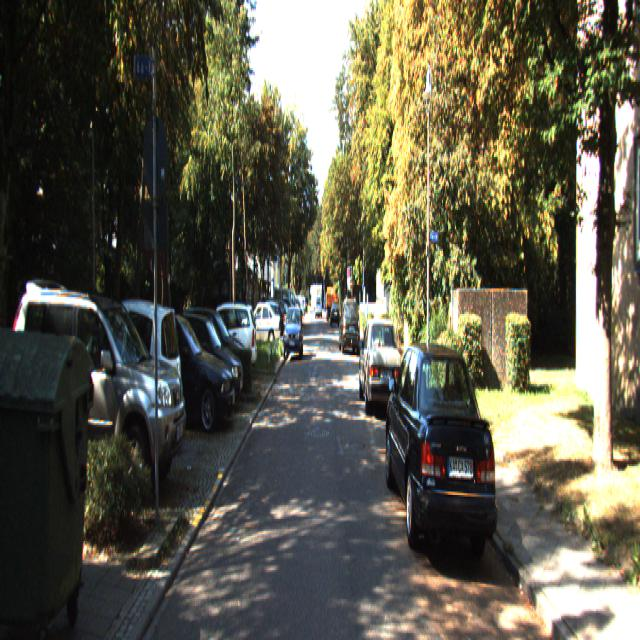Car: (7, 267, 189, 513), (381, 335, 502, 576), (67, 297, 185, 454), (122, 302, 236, 437), (159, 302, 244, 410), (188, 303, 257, 381), (358, 320, 402, 419), (240, 302, 280, 350), (339, 298, 359, 356), (282, 309, 302, 362)
